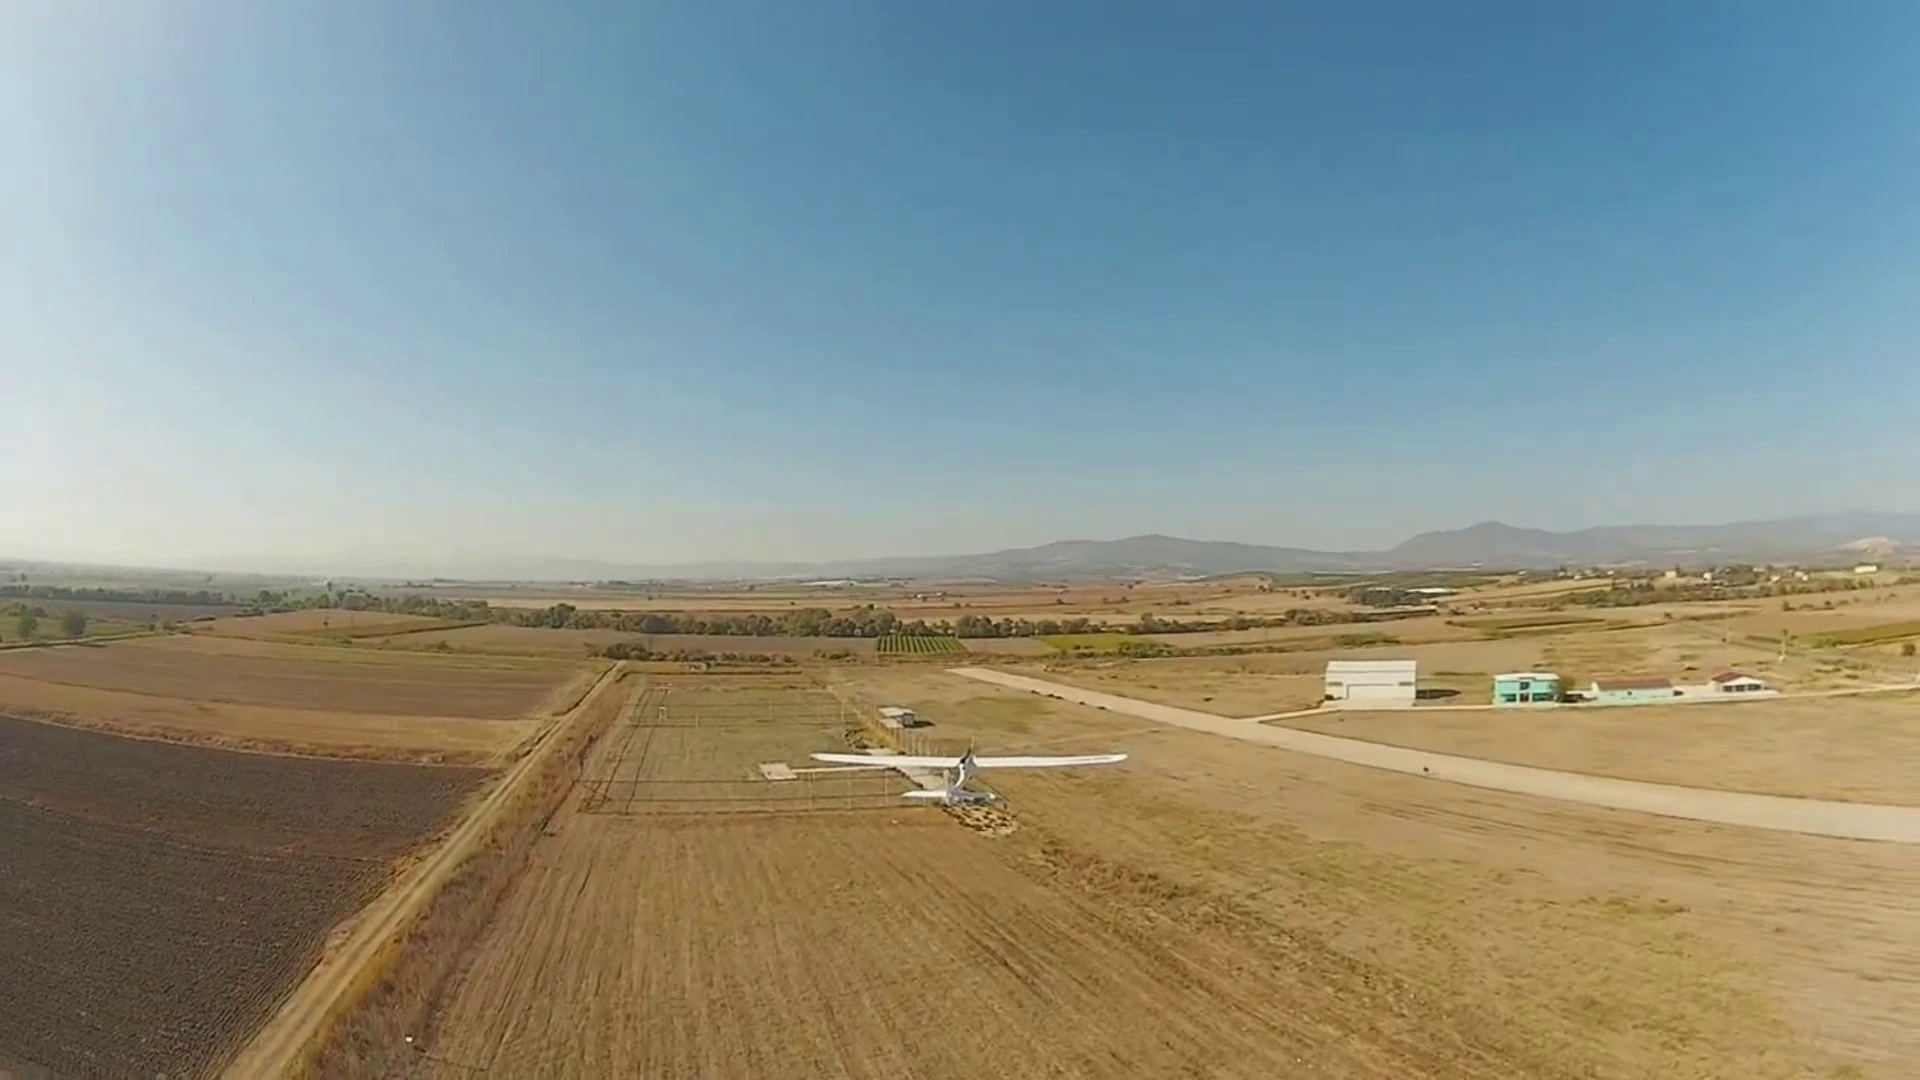airplane: (811, 711, 1132, 823)
